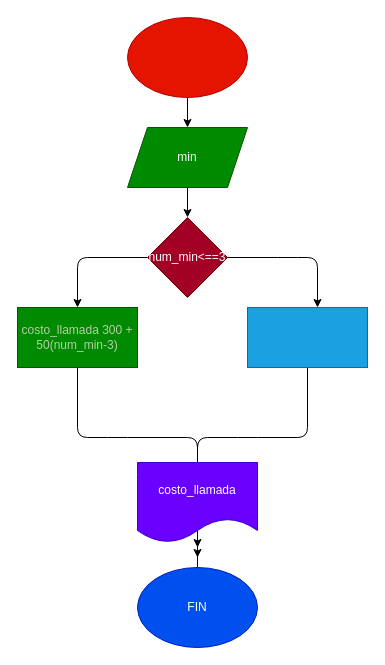
Some shapes in this 385 by 665 pixel diagram are drawn without their labels. The centre of each missing label's shape, as x and y in pixels:
costo_llamada=300: point 307,337
IINCIO: point 187,57
